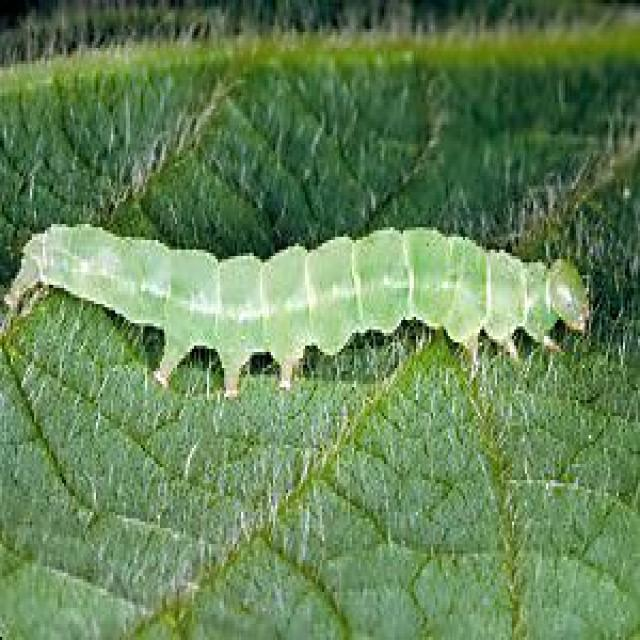armyworm: (22, 213, 595, 382)
